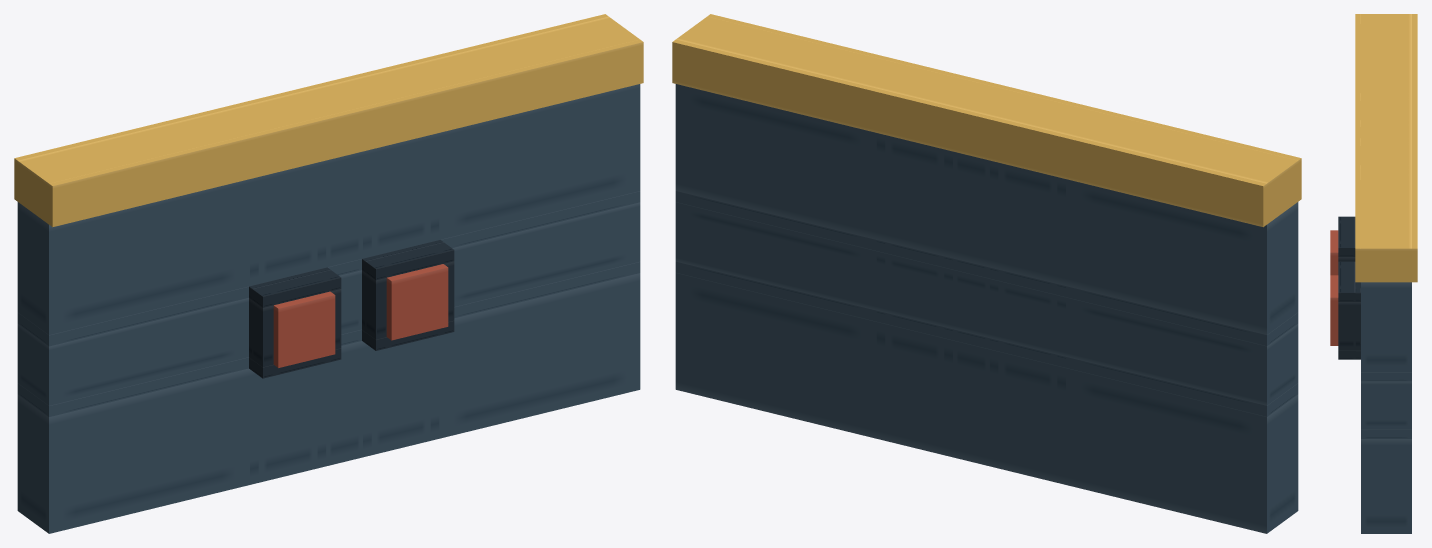
The model's file is sc_laser2.obj.
3 views of the same model, side by side, from view 1: azimuth 30°, elevation 25°; view 2: azimuth 150°, elevation 25°; view 3: azimuth 270°, elevation 25° (orthographic). The views are drawn at different scales.
Bounding box in the file's own units: 19.6 × 11.1 × 3.08.
Materials: 1 (1 with a texture image).
